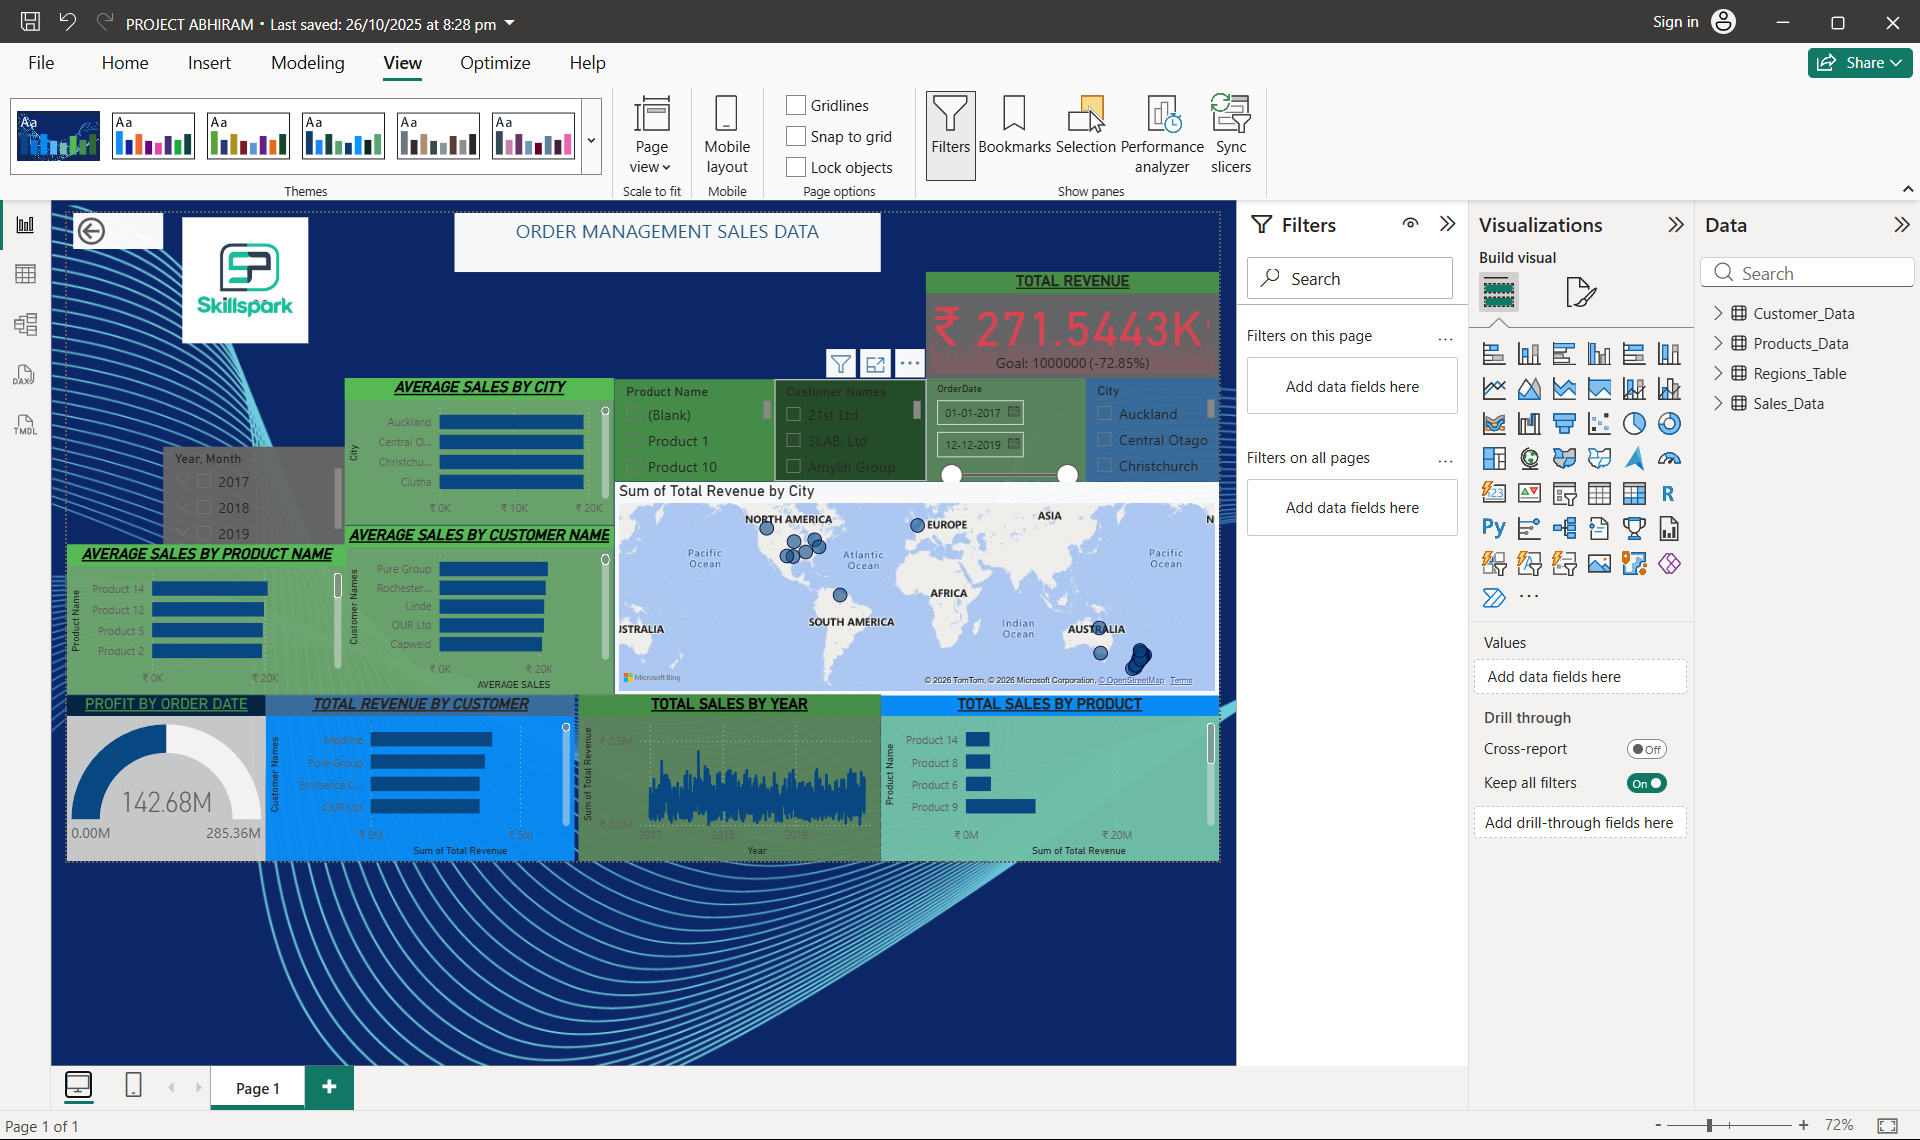

The dashboard page shown, as its layout file describes it:
{"tool":"powerbi","page":{"name":"Page 1","canvas":[1280,720],"ordinal":0},"visuals":[{"type":"barChart","title":"TOTAL SALES BY PRODUCT","fields":{"Category":["Products_Data.Product Name"],"Y":["Sum(Sales_Data.Total Revenue)"]},"box":[904.3,535.2,376,185.2],"z":0},{"type":"map","fields":{"Size":["Sum(Sales_Data.Total Revenue)"],"Category":["Regions_Table.City"]},"box":[607.9,299.1,672.4,237.4],"z":1000},{"type":"lineChart","title":"TOTAL SALES BY YEAR","fields":{"Y":["Sum(Sales_Data.Total Revenue)"],"Category":["Sales_Data.OrderDate.Variation.Date Hierarchy.Year","Sales_Data.OrderDate.Variation.Date Hierarchy.Month","Sales_Data.OrderDate.Variation.Date Hierarchy.Day"]},"box":[568.1,535.2,336.2,185.2],"z":2000},{"type":"slicer","fields":{"Values":["Sales_Data.OrderDate"]},"box":[953.7,183.9,178.4,115.3],"z":3000},{"type":"actionButton","box":[0,0,100,40],"z":4000},{"type":"slicer","fields":{"Values":["Regions_Table.City"]},"box":[1132.1,183.9,148.2,115.3],"z":5000},{"type":"slicer","fields":{"Values":["Products_Data.Product Name"]},"box":[607.9,185.2,178.4,113.9],"z":6000},{"type":"slicer","fields":{"Values":["Customer_Data.Customer Names"]},"box":[786.3,185.2,167.4,113.9],"z":7000},{"type":"slicer","fields":{"Values":["Sales_Data.OrderDate.Variation.Date Hierarchy.Year","Sales_Data.OrderDate.Variation.Date Hierarchy.Month"]},"box":[107,259.3,203.1,108.4],"z":8000},{"type":"barChart","title":"TOTAL REVENUE BY CUSTOMER","fields":{"Category":["Customer_Data.Customer Names"],"Y":["Sum(Sales_Data.Total Revenue)"]},"box":[220.9,535.2,343.1,185.2],"z":9000},{"type":"kpi","title":"TOTAL REVENUE","fields":{"Indicator":["Sum(Sales_Data.Total Revenue)"],"TrendLine":["Sales_Data.OrderDate"],"Goal":["Customer_Data.TARGET RVENUE"]},"box":[953.7,65.9,326.6,118],"z":10000},{"type":"gauge","title":"PROFIT BY ORDER DATE","fields":{"Y":["Sum(Sales_Data.profit)"]},"box":[0,535.2,220.9,185.2],"z":11000},{"type":"barChart","title":"AVERAGE SALES BY CUSTOMER NAME","fields":{"Category":["Customer_Data.Customer Names"],"Y":["Regions_Table.AVERAGE SALES"]},"box":[308.7,347.2,299.1,188],"z":12000},{"type":"barChart","title":"AVERAGE SALES BY CITY","fields":{"Y":["Regions_Table.AVERAGE SALES"],"Category":["Regions_Table.City"]},"box":[308.7,183.9,299.1,163.3],"z":13000},{"type":"barChart","title":"AVERAGE SALES BY PRODUCT NAME","fields":{"Y":["Regions_Table.AVERAGE SALES"],"Category":["Products_Data.Product Name"]},"box":[0,367.8,310.1,167.4],"z":14000},{"type":"textbox","box":[430.9,0,473.4,65.9],"z":15000},{"type":"image","box":[38.4,0,282.7,149.6],"z":16000}]}

Visuals, with their boxes on the page's 1280x720 design canvas (x1, y1, x2, y2). These are canvas units, not pixel positions in the 1920x1140 screenshot, which may show the page scaled, cropped or inside an application window:
"TOTAL SALES BY PRODUCT" barChart: select_region(904, 535, 1280, 720)
map - Sum(Sales_Data.Total Revenue) x Regions_Table.City: select_region(608, 299, 1280, 536)
"TOTAL SALES BY YEAR" lineChart: select_region(568, 535, 904, 720)
slicer - Sales_Data.OrderDate: select_region(954, 184, 1132, 299)
actionButton: select_region(0, 0, 100, 40)
slicer - Regions_Table.City: select_region(1132, 184, 1280, 299)
slicer - Products_Data.Product Name: select_region(608, 185, 786, 299)
slicer - Customer_Data.Customer Names: select_region(786, 185, 954, 299)
slicer - Sales_Data.OrderDate.Variation.Date Hierarchy.Year x Sales_Data.OrderDate.Variation.Date Hierarchy.Month: select_region(107, 259, 310, 368)
"TOTAL REVENUE BY CUSTOMER" barChart: select_region(221, 535, 564, 720)
"TOTAL REVENUE" kpi: select_region(954, 66, 1280, 184)
"PROFIT BY ORDER DATE" gauge: select_region(0, 535, 221, 720)
"AVERAGE SALES BY CUSTOMER NAME" barChart: select_region(309, 347, 608, 535)
"AVERAGE SALES BY CITY" barChart: select_region(309, 184, 608, 347)
"AVERAGE SALES BY PRODUCT NAME" barChart: select_region(0, 368, 310, 535)
textbox: select_region(431, 0, 904, 66)
image: select_region(38, 0, 321, 150)
